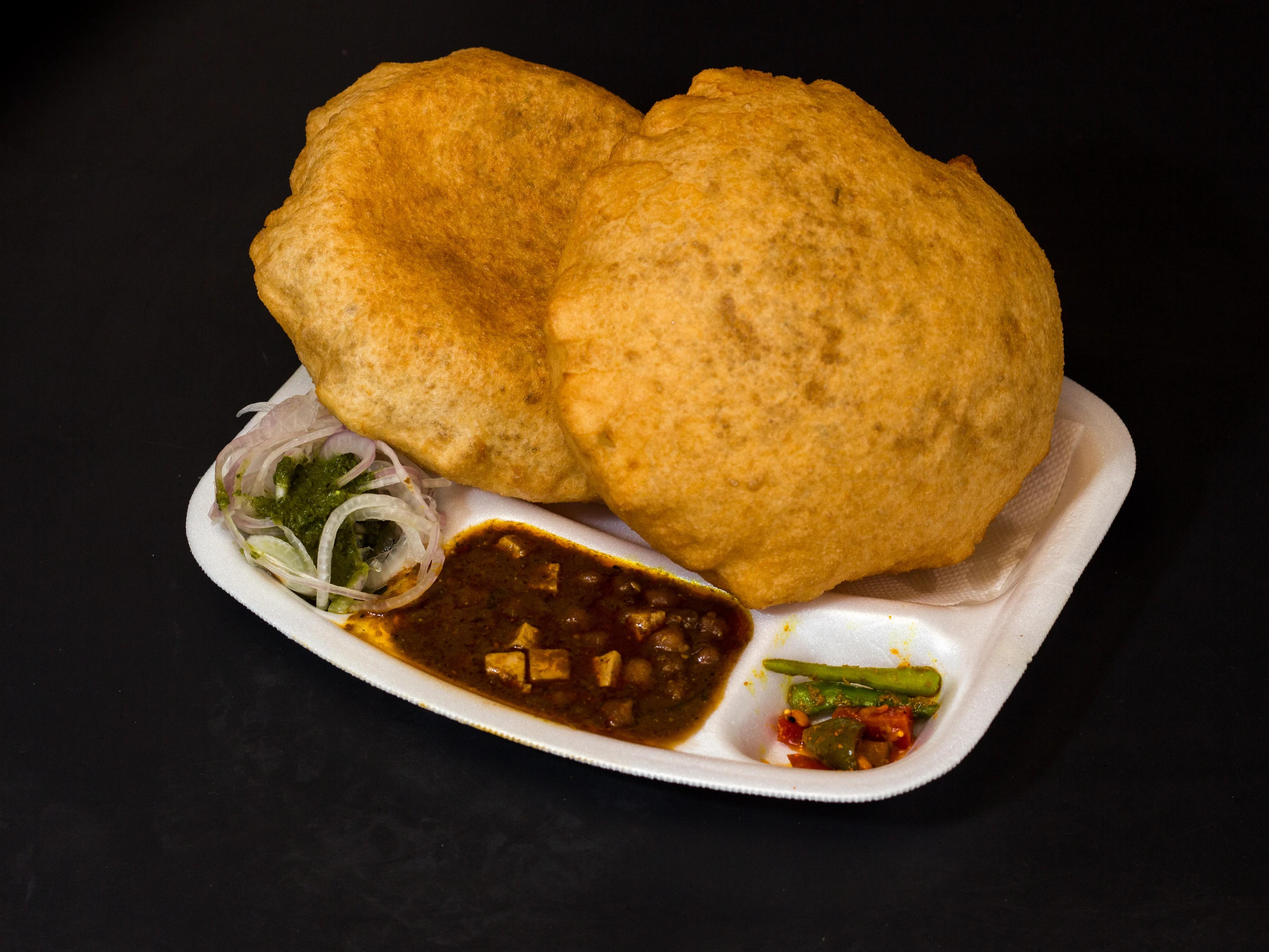Bhatura: (251, 44, 671, 503)
Chole: (546, 66, 1064, 610), (390, 522, 752, 745)
